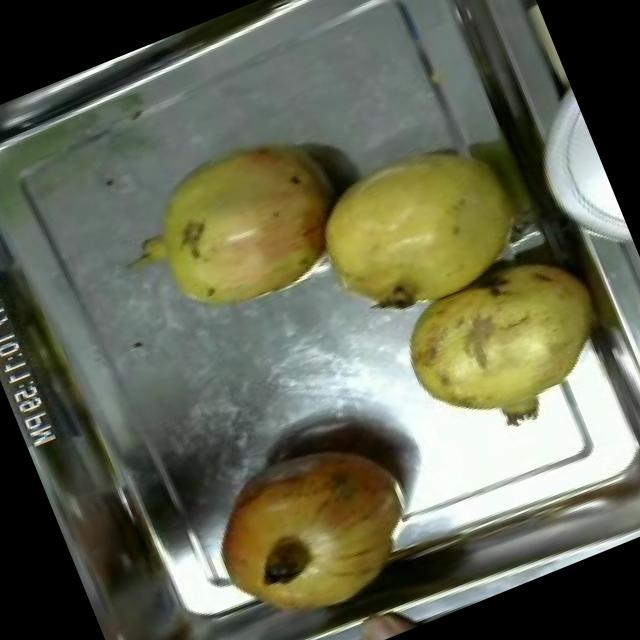fruit: (104, 109, 378, 348), (367, 234, 636, 474), (284, 114, 548, 345), (184, 414, 442, 640)
